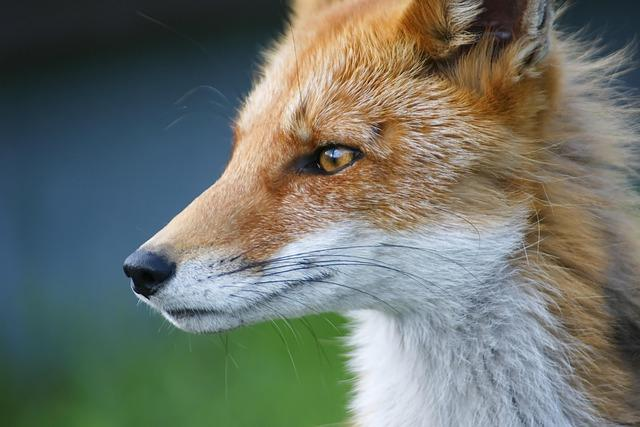Non_Gorille: (84, 0, 640, 420)
